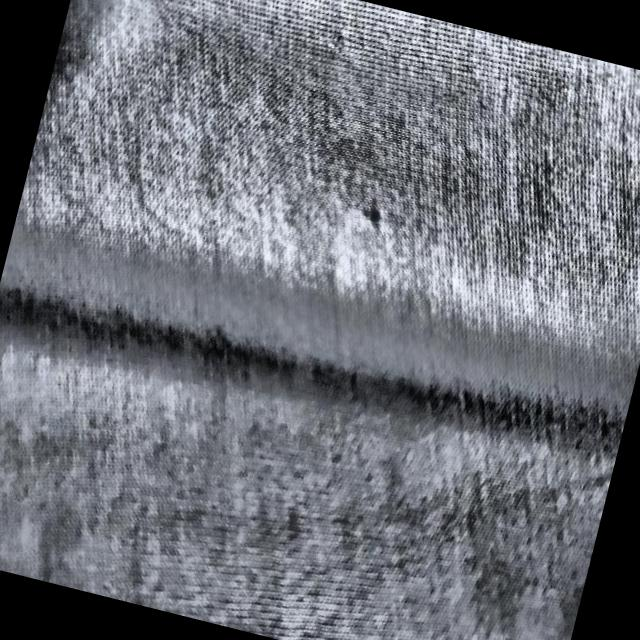cut: (350, 194, 391, 234)
